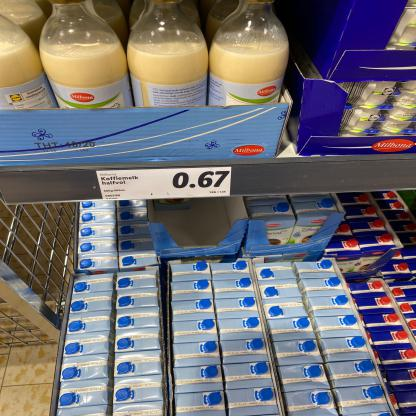prtg: (97, 168, 233, 201)
